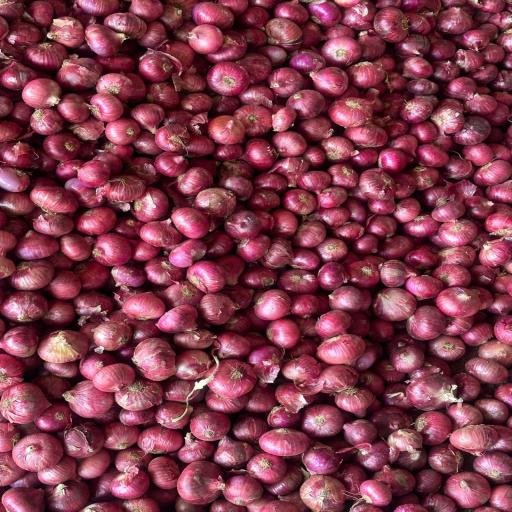healthy: (304, 0, 378, 31), (10, 432, 63, 473), (177, 459, 224, 504), (203, 358, 255, 398), (1, 380, 45, 425), (64, 379, 115, 417), (298, 473, 347, 512), (436, 285, 489, 319), (444, 472, 490, 508), (58, 59, 106, 93), (328, 93, 376, 127), (2, 289, 48, 324), (316, 334, 366, 366), (382, 334, 424, 372), (301, 403, 344, 440), (449, 424, 502, 454), (373, 287, 418, 322), (207, 60, 250, 96), (257, 427, 308, 457), (84, 18, 123, 56), (405, 304, 446, 340), (183, 260, 226, 294), (107, 466, 150, 500), (128, 187, 168, 223), (88, 320, 132, 352), (45, 481, 90, 512), (281, 352, 322, 386), (340, 417, 378, 453), (22, 76, 63, 109), (117, 292, 165, 320), (171, 208, 213, 239), (320, 36, 362, 67), (412, 410, 450, 444), (93, 361, 136, 391), (93, 232, 132, 265), (46, 15, 85, 48), (74, 205, 115, 236), (222, 473, 264, 503), (375, 7, 411, 42), (137, 48, 174, 82), (148, 456, 180, 495), (437, 218, 480, 247), (0, 139, 44, 167), (0, 324, 36, 358), (464, 358, 511, 384), (253, 289, 291, 321), (144, 255, 183, 286), (64, 0, 135, 17), (248, 453, 288, 483), (189, 0, 235, 26), (156, 304, 198, 332), (287, 88, 327, 117), (90, 90, 125, 123), (232, 411, 268, 443), (357, 168, 394, 199), (2, 486, 46, 512), (208, 114, 246, 144), (214, 440, 252, 470), (188, 22, 224, 53), (475, 450, 512, 480), (268, 68, 305, 98), (43, 133, 82, 161), (266, 318, 300, 350), (176, 166, 213, 195), (328, 286, 369, 312), (138, 222, 182, 246), (156, 121, 189, 153), (316, 309, 352, 338), (104, 117, 141, 145), (248, 137, 278, 171), (48, 270, 82, 300), (313, 67, 348, 96), (349, 62, 385, 90), (28, 108, 65, 135), (98, 498, 169, 512), (58, 92, 91, 122), (76, 157, 109, 187), (294, 218, 327, 248), (427, 335, 465, 361), (242, 499, 318, 512), (383, 466, 415, 496), (283, 188, 317, 216), (404, 274, 442, 299), (446, 402, 484, 427), (43, 300, 75, 329), (131, 103, 165, 130), (299, 115, 337, 139), (155, 151, 190, 177), (320, 261, 350, 291), (345, 126, 390, 146), (60, 232, 92, 260), (270, 131, 305, 156), (318, 136, 354, 160), (379, 148, 412, 174), (289, 293, 322, 318), (0, 164, 29, 192), (128, 0, 163, 23), (237, 237, 269, 262), (380, 260, 408, 288), (316, 237, 348, 261), (493, 308, 512, 348), (270, 210, 298, 237), (268, 1, 302, 23), (402, 57, 434, 80), (462, 142, 494, 165), (462, 29, 491, 54), (416, 143, 447, 166), (409, 119, 437, 143), (403, 218, 439, 236), (302, 144, 326, 170), (272, 107, 296, 131), (214, 143, 244, 162), (491, 484, 512, 511), (173, 498, 210, 512)
